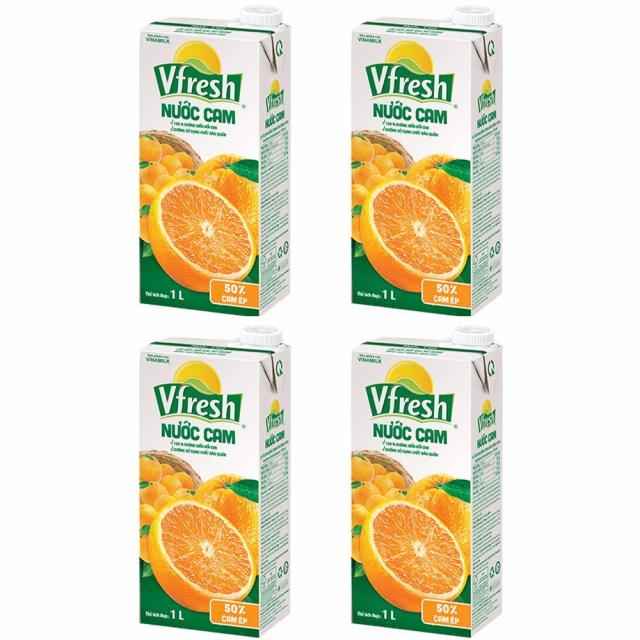non_white_jug: (310, 17, 519, 309), (339, 332, 533, 630), (126, 8, 310, 319), (120, 334, 299, 640)
